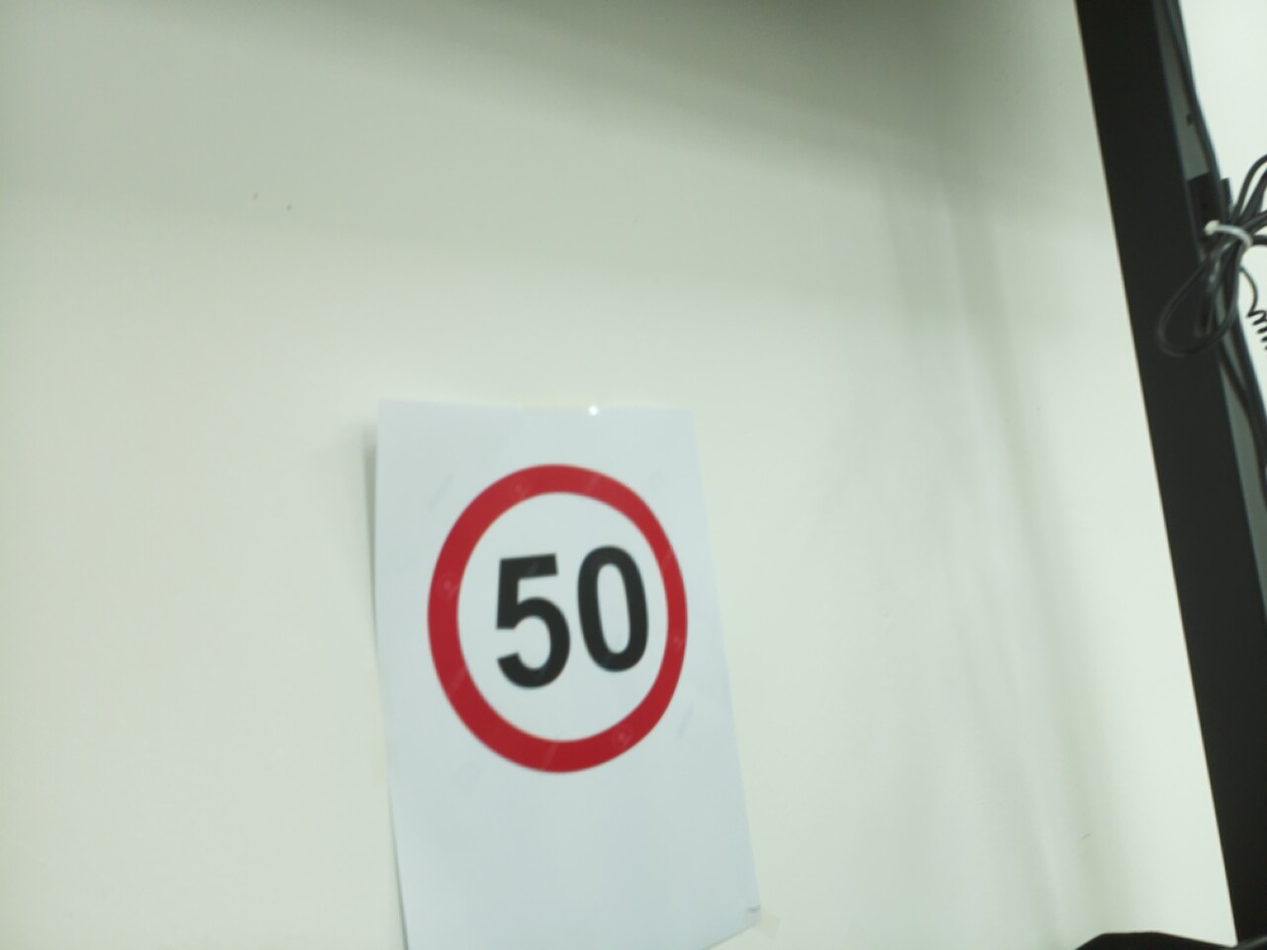speed_50: (418, 454, 697, 783)
